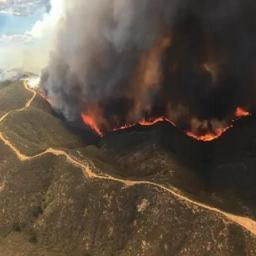Heavy smoke: (43, 0, 256, 118)
